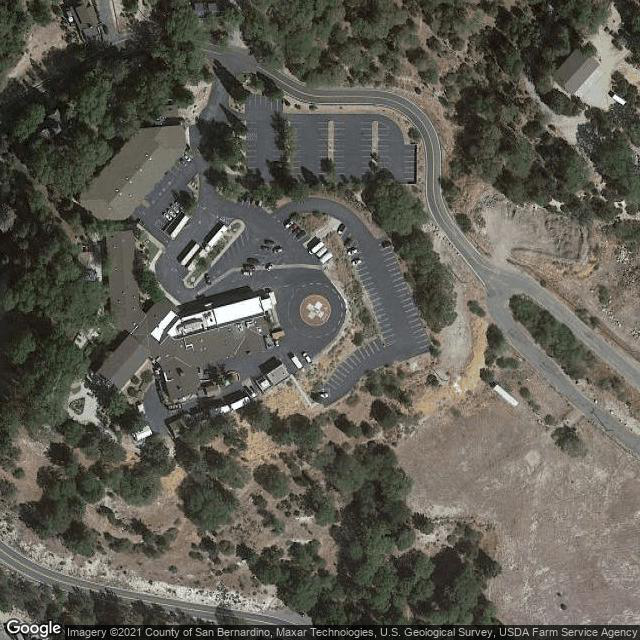Helipad: (297, 292, 333, 329)
